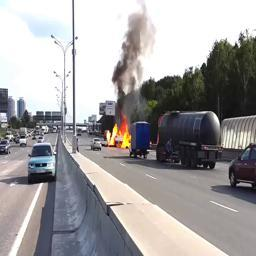fire: (104, 116, 131, 149)
